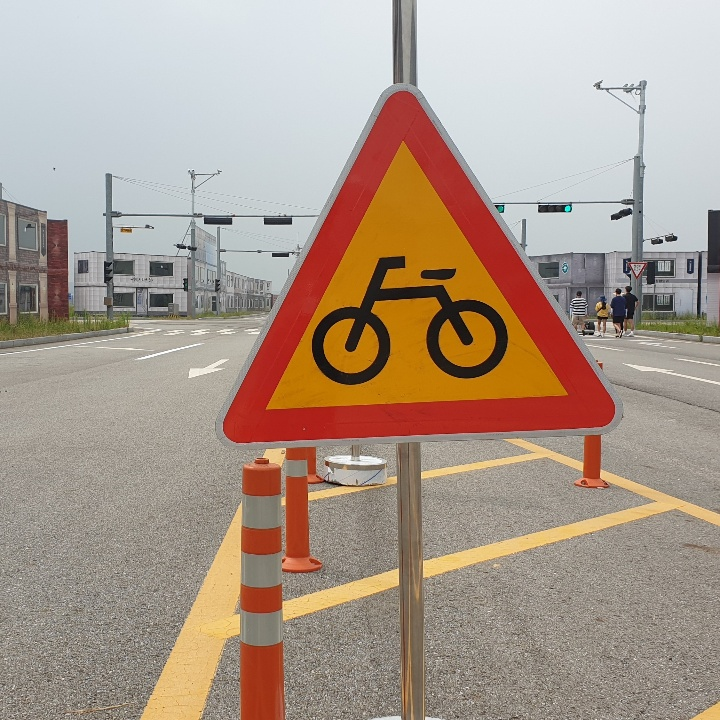bicycle: (218, 84, 617, 435)
